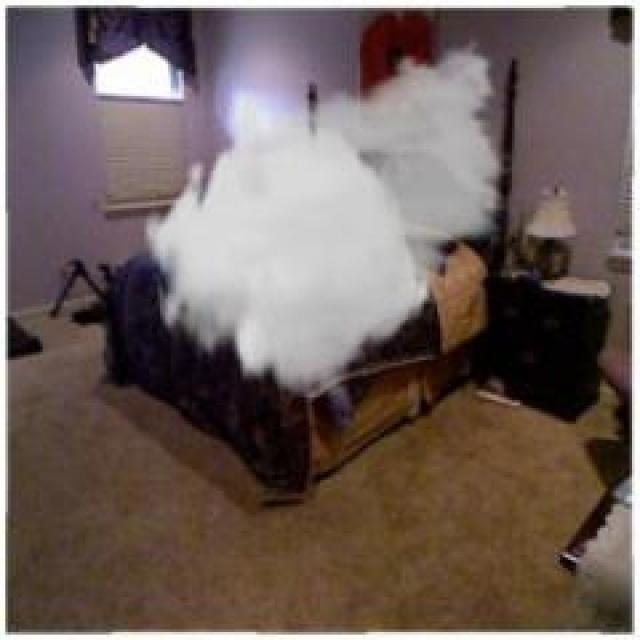Smoke: (135, 39, 517, 396)
